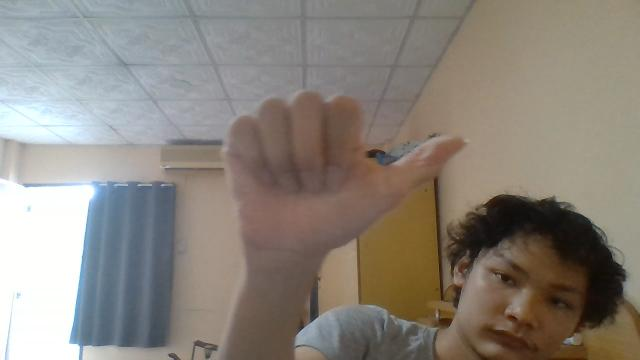left: (222, 89, 468, 263)
